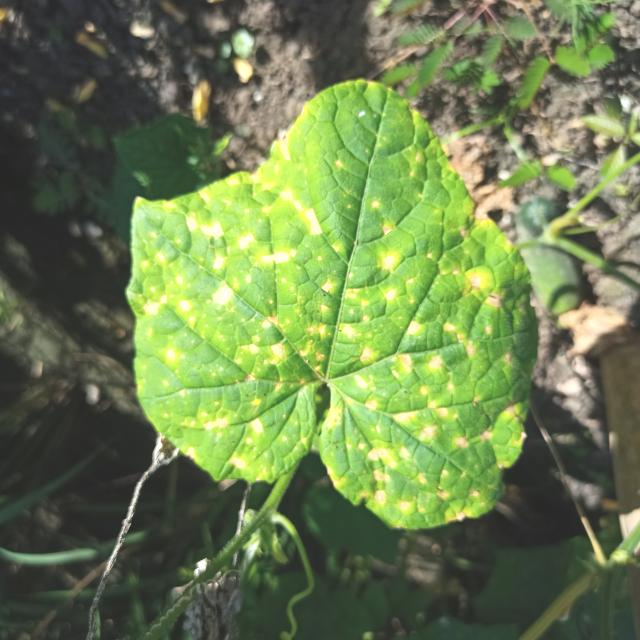disease_cucumber: (146, 100, 532, 516)
